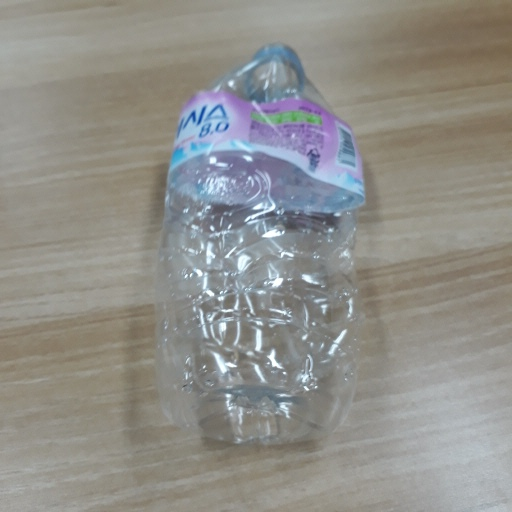Plastic_0: (164, 43, 368, 457)
